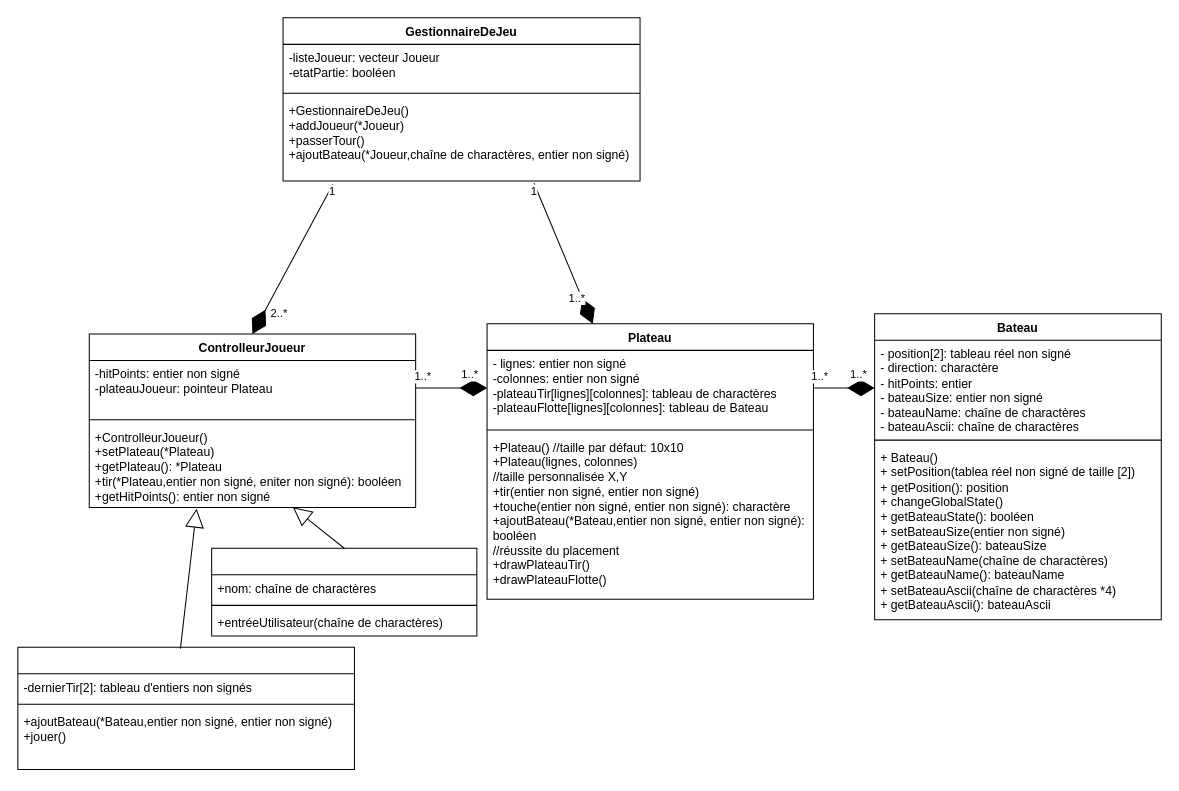
This 1179x791 diagram has some shape labels left out. Here are the shapes that lost their labels. From the top down, the box of each, then its label:
(211, 547, 477, 636): Joueur
(17, 646, 354, 770): IA
